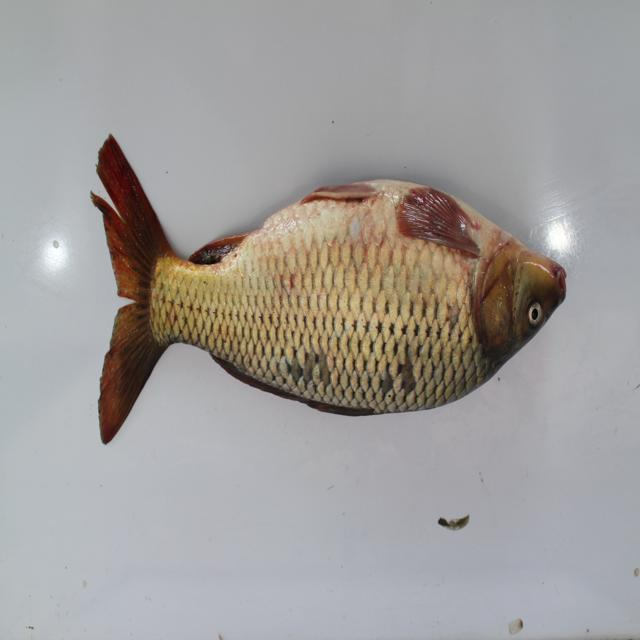CommonCarp: (85, 119, 565, 477)
